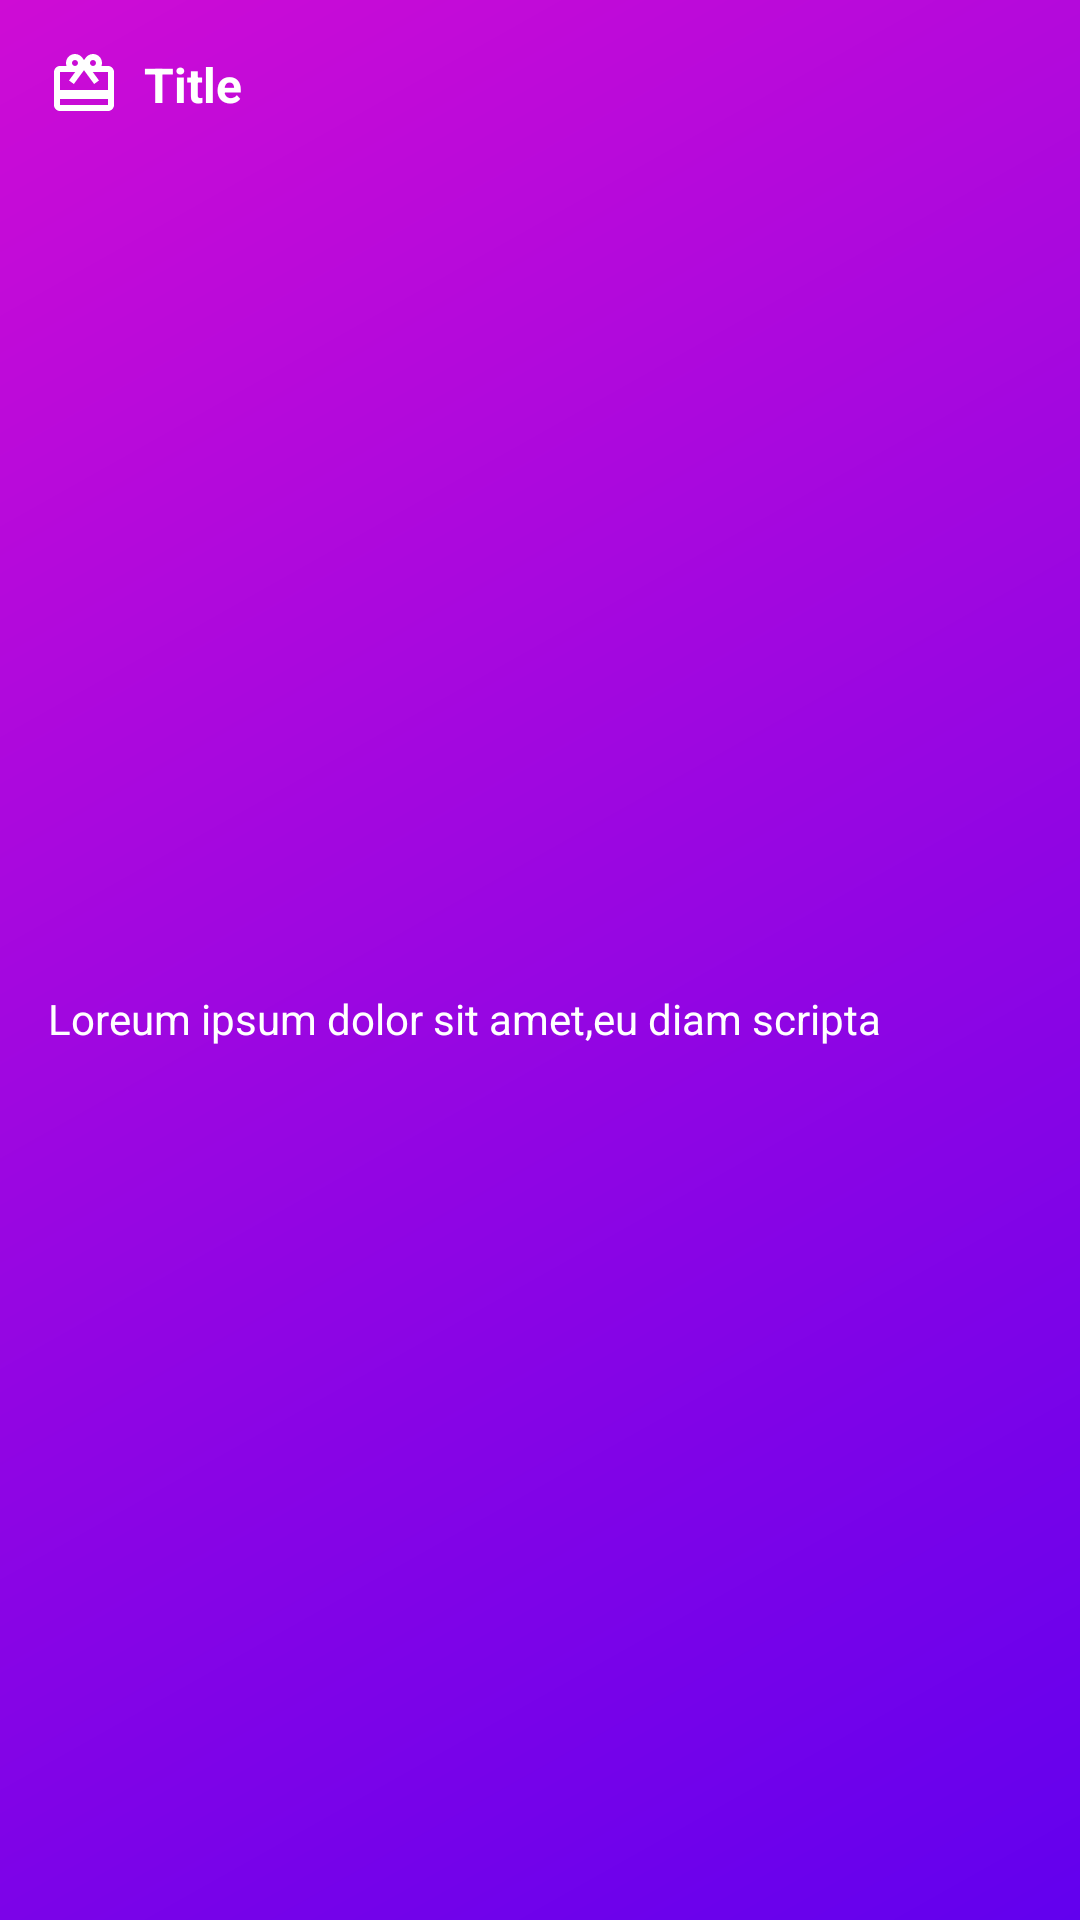

Icons on this 1080x1920 Android screen, each with its box as (x1, y1, x2, y2):
reward: (54, 54, 114, 111)
